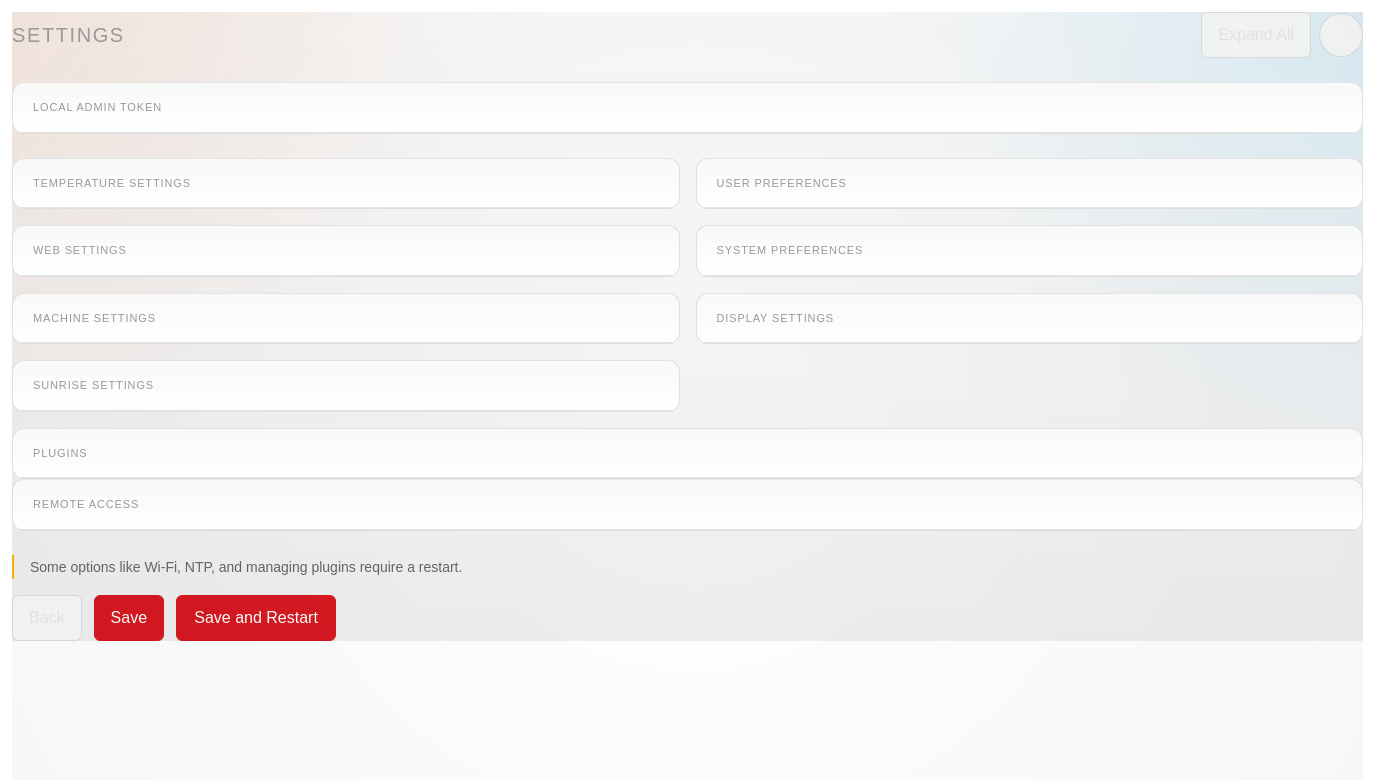
Scenario: Settings custom accents (PRO-643) › resets the app accent to the selected theme default
Click the button "Web Settings" at (80, 250), box top-left (33, 242), bottom-right (658, 258)
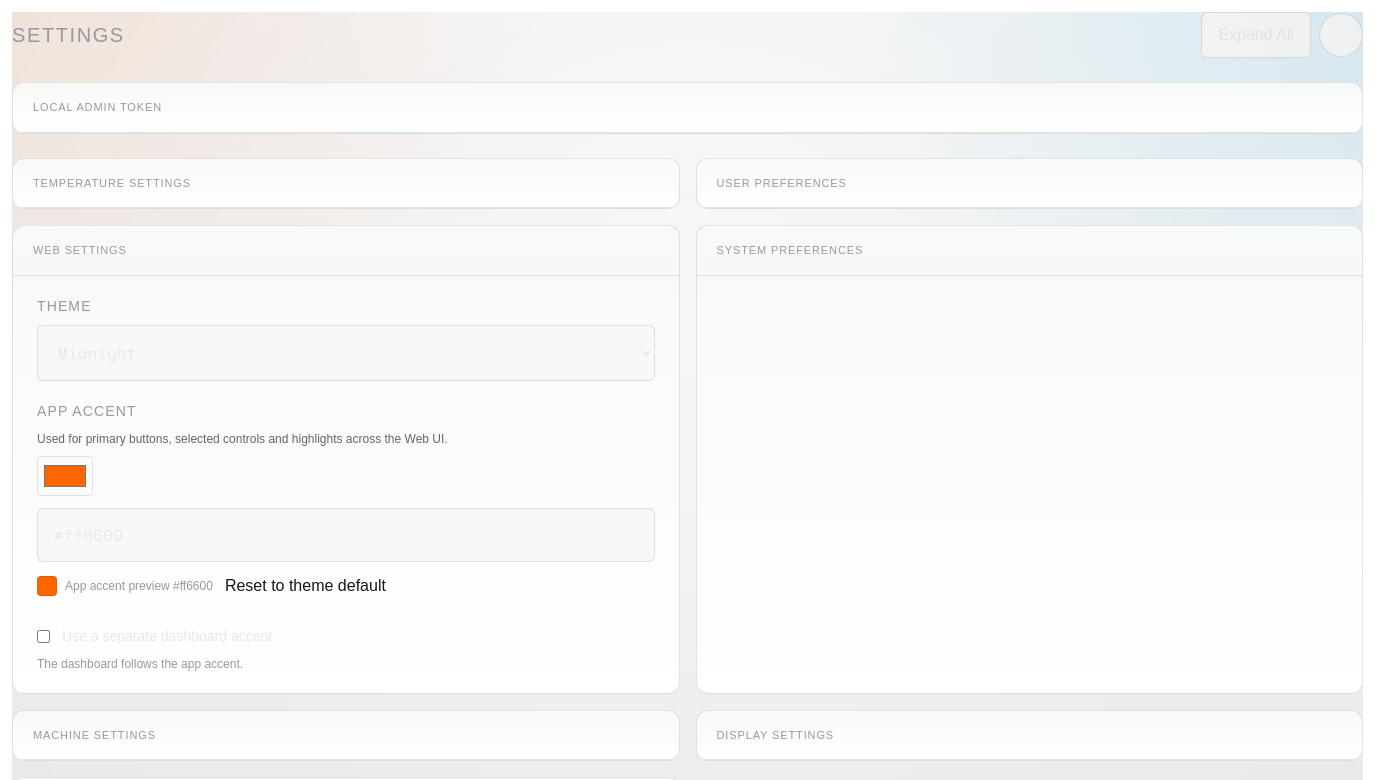
Expected: the colour field named "App accent color" holds "#ff6600", top-left (37, 456), bottom-right (93, 496)
Click the button "Reset to theme default" at (305, 586), box top-left (225, 574), bottom-right (386, 598)
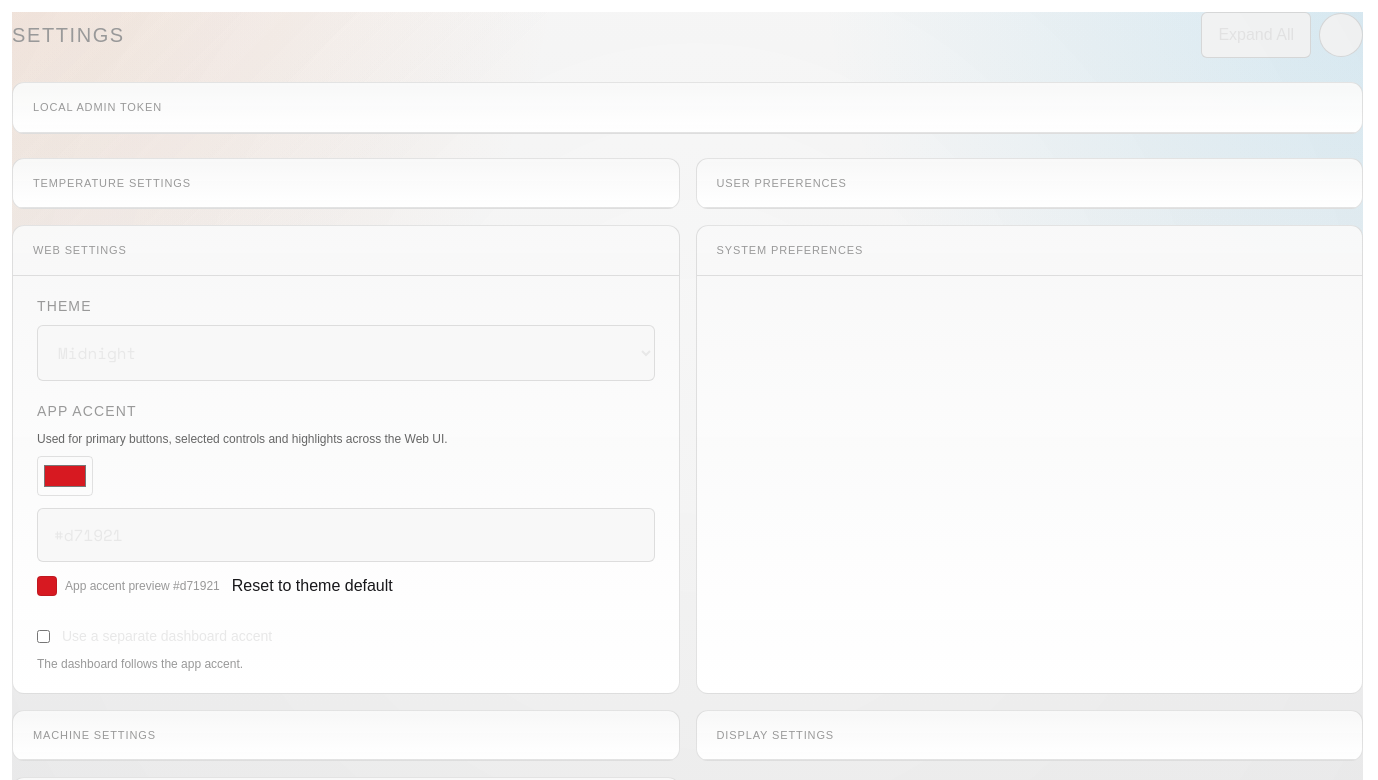
Expected: the colour field named "App accent color" holds "#d71921", top-left (37, 456), bottom-right (93, 496)
